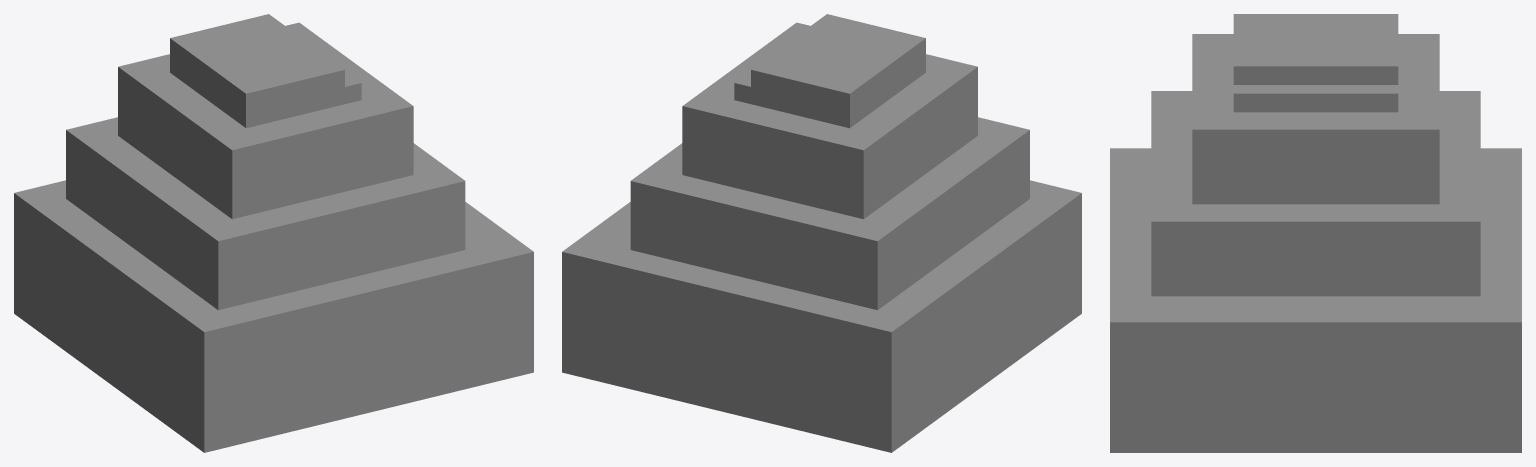
File: piedra2.obj
The picture shows the model from 3 angles, left to right: view 1: azimuth 30°, elevation 25°; view 2: azimuth 150°, elevation 25°; view 3: azimuth 270°, elevation 25°; orthographic projection. The views are drawn at different scales.
Size of the model in its own units: 20 by 17 by 20.
Materials: 1 (1 with a texture image).
